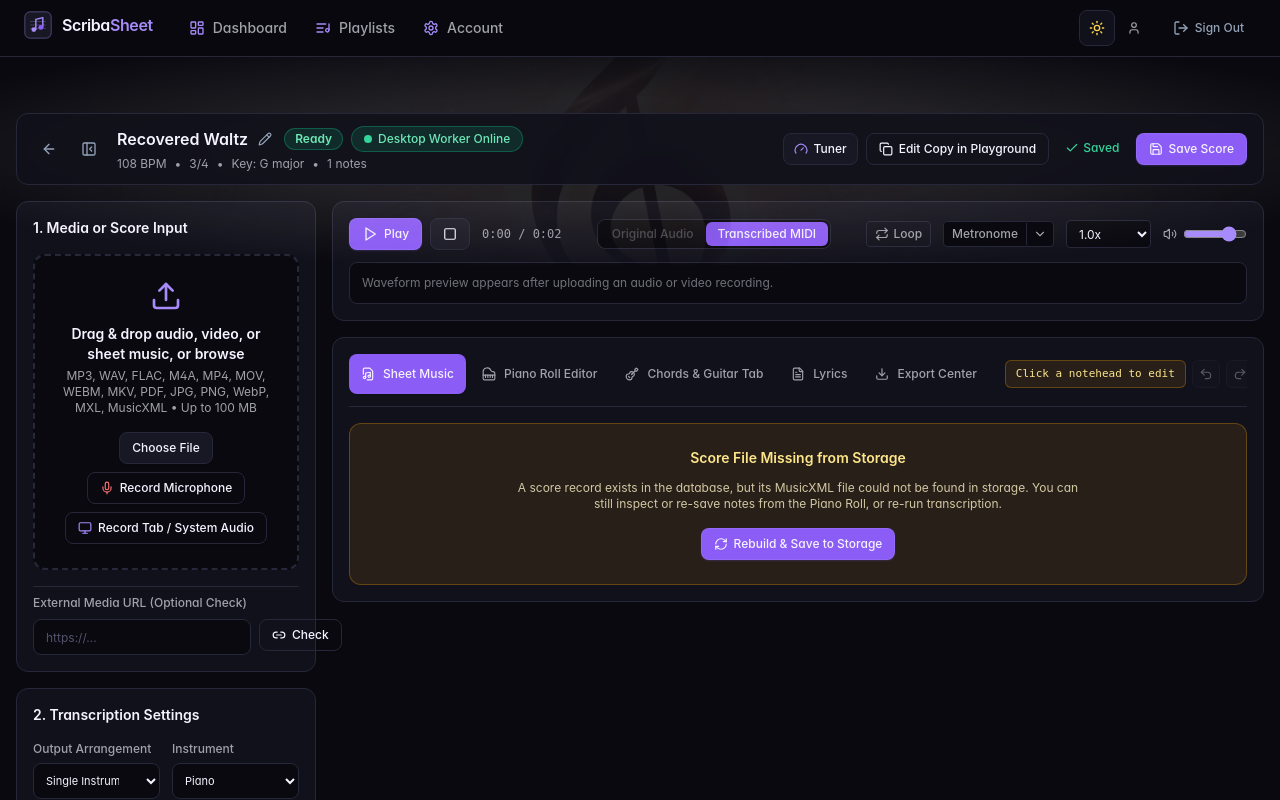
Scenario: Studio Missing Score File One-Click Recovery › preserves missing-file warning and shows clear error feedback when R2 upload fails
Click the button with test id "rebuild-save-storage-btn" at (798, 544), box [701, 528, 895, 560]
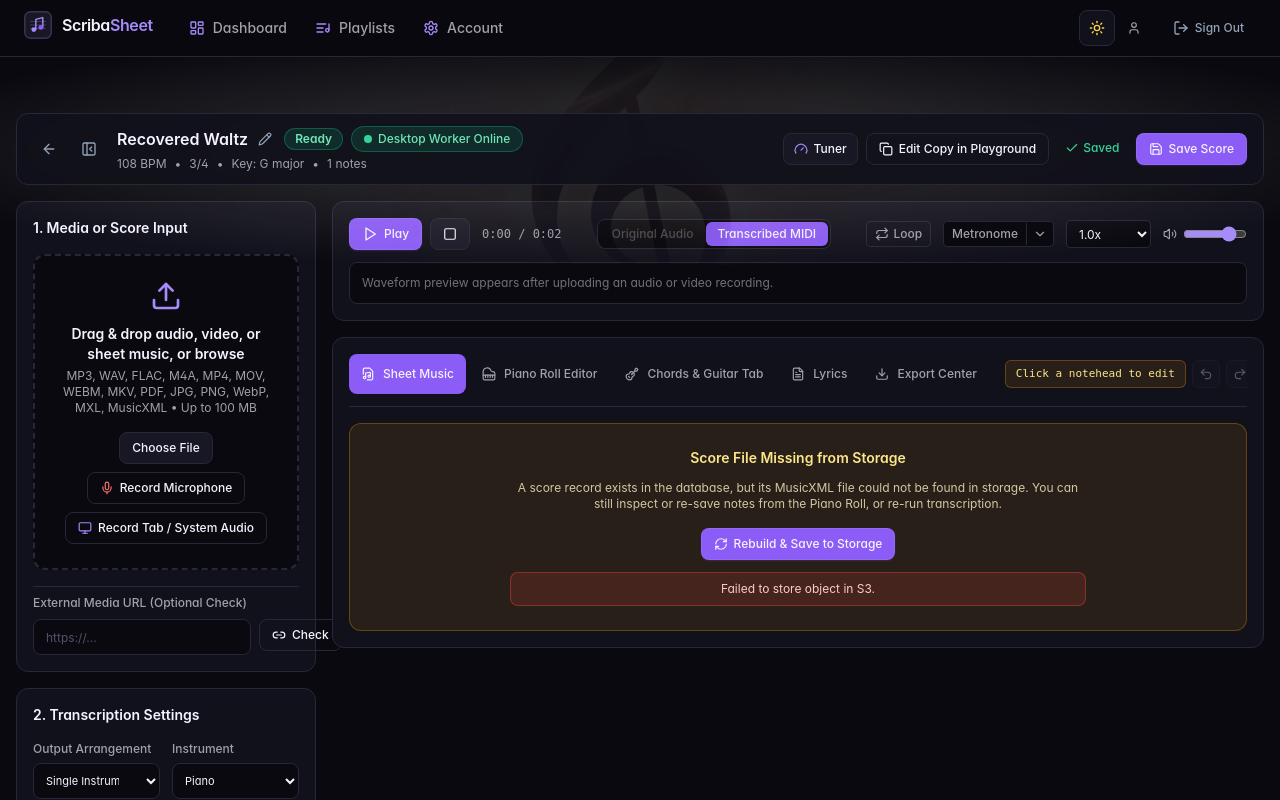
Expected: the text "Score File Missing from Storage" is shown, [690, 449, 906, 466]
Expected: the message with test id "score-recovery-error" reads "Failed to store object in S3.", [721, 581, 875, 596]
